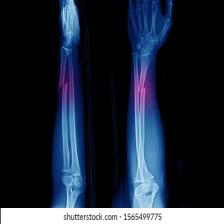open-compound-fracture: (124, 0, 172, 204), (53, 0, 87, 205)
